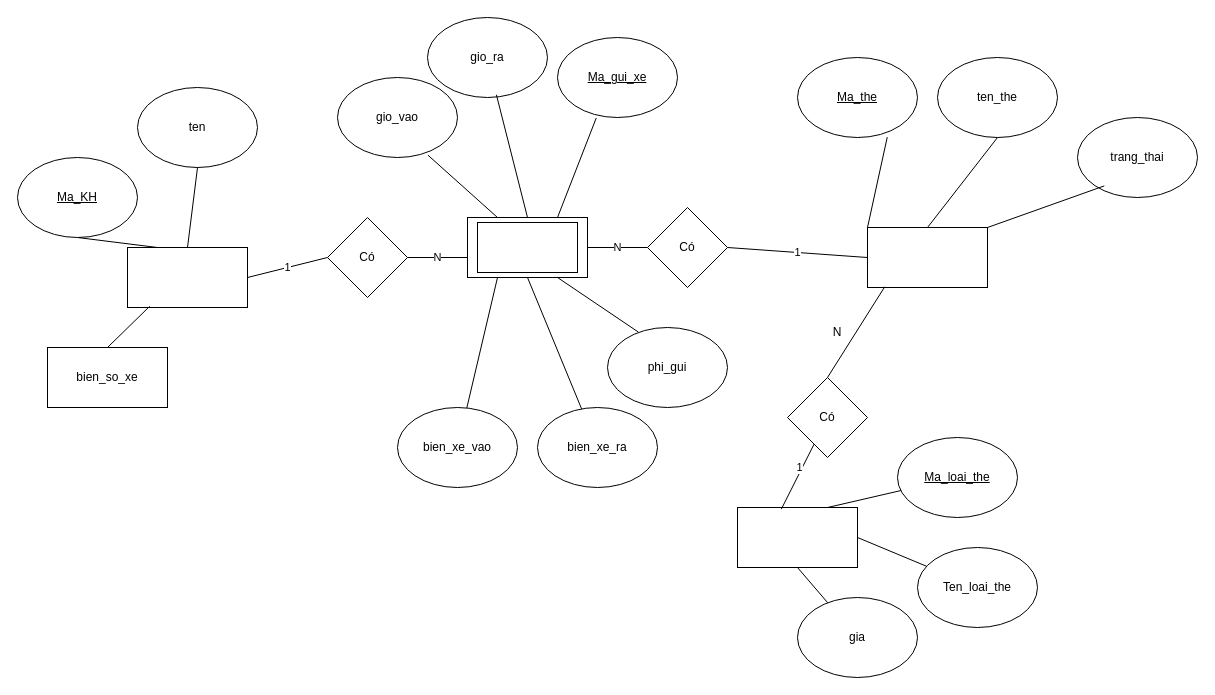
Some shapes in this 1215 by 695 pixel diagram are drawn without their labels. The shapes that lost their labels are listed below. From the top down, each one's centre as x and y in pixels, then its label:
At pixel 527 247: "GuiXe".
At pixel 927 257: "TheTu".
At pixel 187 277: "KhachHang".
At pixel 797 537: "LoaiTHe".
